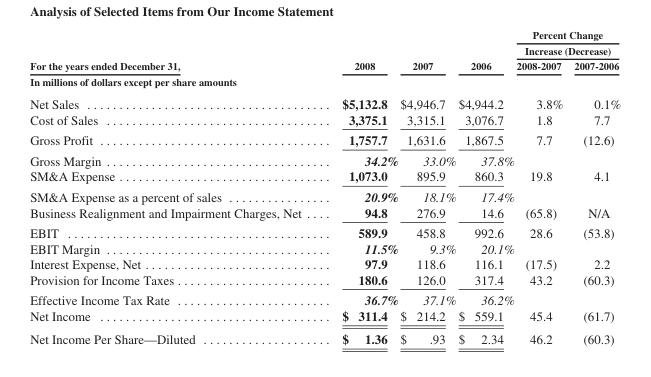table: (29, 28, 620, 346)
table column: (29, 28, 321, 346), (321, 28, 398, 346), (398, 28, 456, 346), (456, 28, 514, 346), (514, 28, 567, 346), (567, 28, 620, 346)
table column header: (29, 28, 620, 73)
table projected row header: (29, 73, 620, 91)
table row: (29, 28, 620, 57), (29, 129, 620, 150), (29, 91, 620, 111), (29, 326, 620, 346), (29, 307, 620, 326), (29, 73, 620, 91), (29, 111, 620, 129), (29, 150, 620, 168), (29, 168, 620, 186), (29, 186, 620, 204), (29, 204, 620, 222), (29, 222, 620, 240), (29, 271, 620, 289), (29, 289, 620, 307), (29, 57, 620, 73), (29, 255, 620, 271), (29, 240, 620, 255)
table spanning cell: (29, 28, 321, 73), (321, 28, 398, 73), (514, 28, 620, 57), (398, 28, 456, 73), (456, 28, 514, 73)
